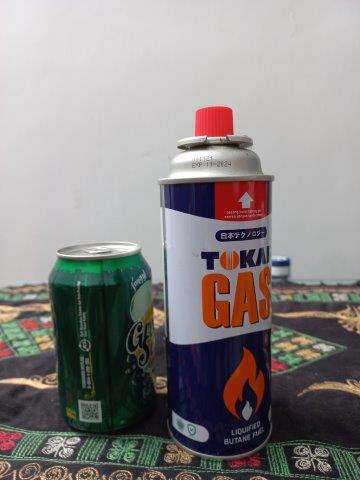kaleng: (159, 106, 272, 459), (49, 243, 154, 436)
